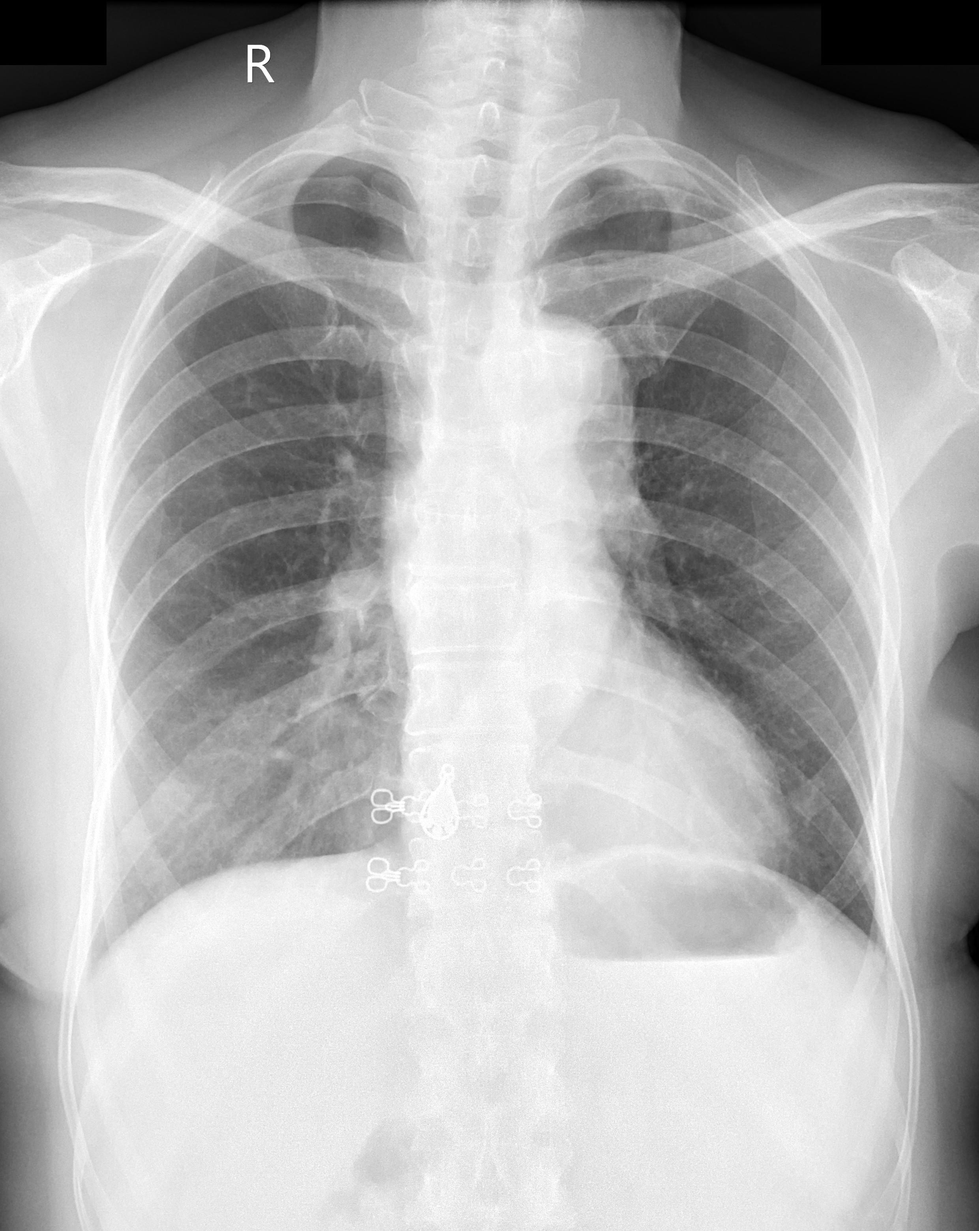Aortic enlargement: (504, 320, 638, 493)
